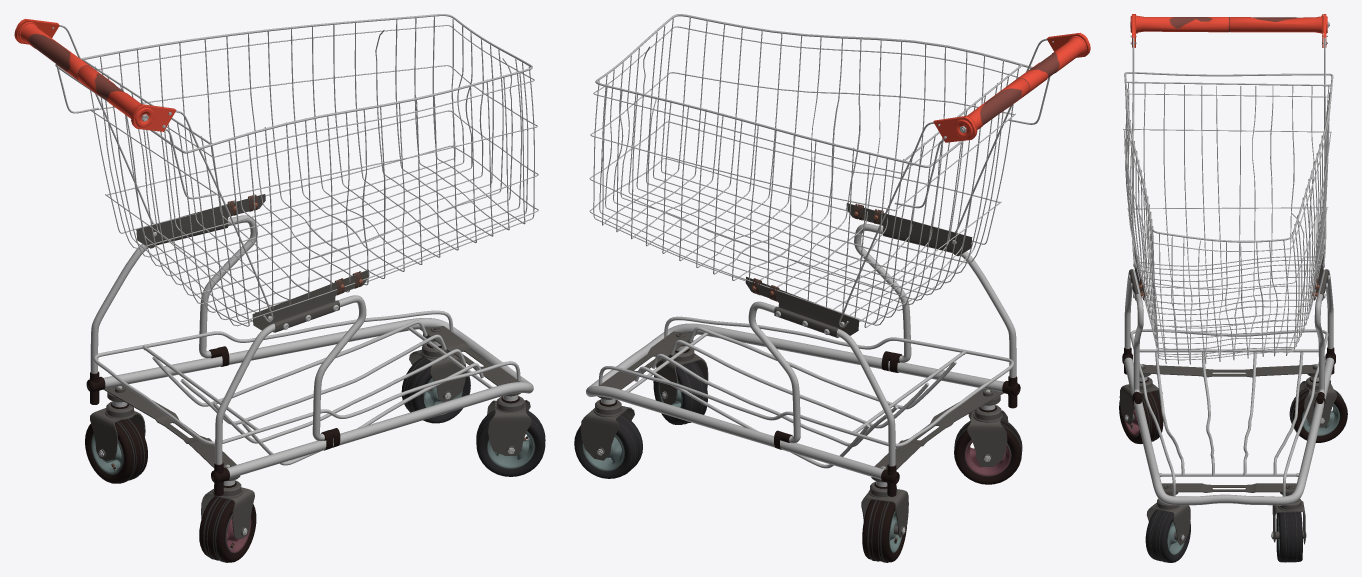
The model's file is telegka_broken.fbx.
3 renders of one model, left to right at view 1: azimuth 30°, elevation 25°; view 2: azimuth 150°, elevation 25°; view 3: azimuth 270°, elevation 25°, orthographic. The views are drawn at different scales.
Parts seen in each view (by area): view 1: BezierCurve.006, BezierCurve.003, BezierCurve.004, BezierCurve, Plane.001, Cylinder.008, Cylinder.045, Cylinder.081, Plane.006, Plane.008, Cylinder.030, Cylinder.028 (+7 smaller); view 2: BezierCurve.006, BezierCurve.003, BezierCurve.004, BezierCurve, Plane.001, Cylinder.008, Cylinder.081, Cylinder.028, Plane.006, Plane.003, Plane.004, Cylinder.045 (+8 smaller); view 3: BezierCurve.006, BezierCurve.004, BezierCurve.003, Cylinder.008, BezierCurve, Plane.006, Cylinder.030, Cylinder.028, Plane.005, Cylinder.081, Cylinder.045, BezierCurve.033 (+9 smaller).
Boxes of the visible parts, x1,y1,x2,y2 form: BezierCurve.006: (55, 14, 538, 326); BezierCurve.003: (93, 310, 520, 465); BezierCurve.004: (103, 318, 533, 478); BezierCurve: (90, 215, 366, 464); Plane.001: (136, 194, 369, 332); Cylinder.008: (20, 23, 153, 127); Cylinder.045: (199, 496, 256, 562); Cylinder.081: (85, 418, 147, 483); Plane.006: (103, 385, 236, 467); Plane.008: (487, 400, 531, 455); Cylinder.030: (476, 410, 545, 476); Cylinder.028: (401, 357, 470, 423); BezierCurve.006: (589, 14, 1032, 327); BezierCurve.003: (598, 316, 1014, 468); BezierCurve.004: (586, 323, 1003, 479); BezierCurve: (748, 223, 1016, 466); Plane.001: (745, 203, 972, 337); Cylinder.008: (954, 37, 1085, 138); Cylinder.081: (862, 499, 906, 562); Cylinder.028: (574, 414, 642, 478); Plane.006: (874, 388, 1003, 469); Plane.003: (967, 410, 1008, 466); Plane.004: (580, 406, 634, 460); Cylinder.045: (954, 419, 1021, 484); BezierCurve.006: (1123, 72, 1333, 364); BezierCurve.004: (1124, 357, 1334, 505); BezierCurve.003: (1130, 329, 1328, 496); Cylinder.008: (1130, 15, 1327, 33); BezierCurve: (1124, 269, 1333, 393); Plane.006: (1142, 364, 1318, 377); Cylinder.030: (1145, 509, 1190, 562); Cylinder.028: (1276, 512, 1302, 562); Plane.005: (1161, 483, 1296, 492); Cylinder.081: (1290, 388, 1347, 442); Cylinder.045: (1119, 391, 1163, 443); BezierCurve.033: (1132, 16, 1326, 268).
Bounding box in the file's own units: 269 × 286 × 152.
